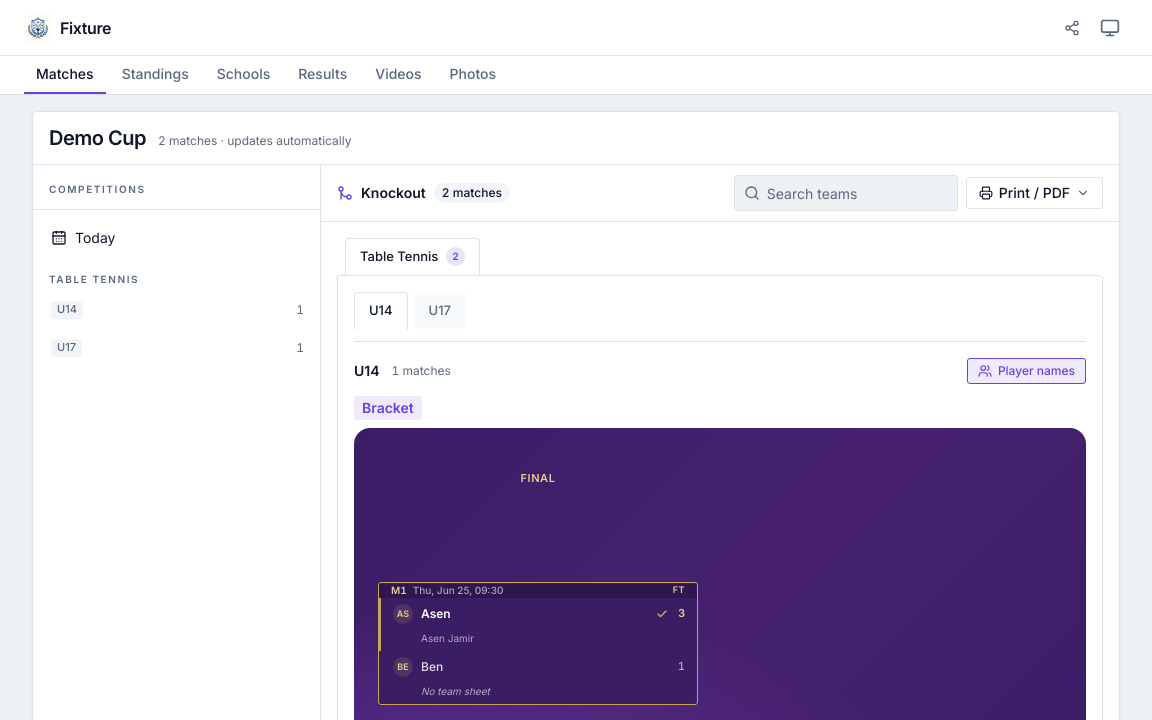
Test: the knockout draw inside the match centre › switches brackets from the category bookmarks (one bracket at a time)
Click the tab with test id "bracket-comp-pick-tt.u17".
click(440, 310)  # box top-left (414, 292), bottom-right (466, 329)
(page scrolled)
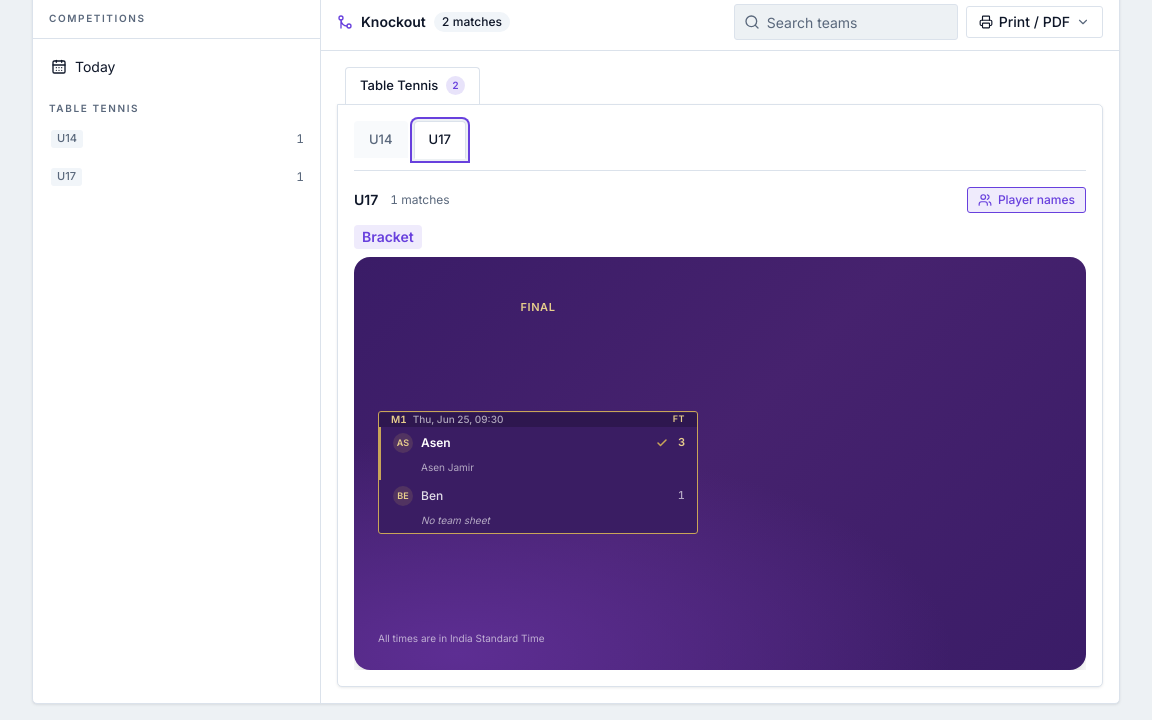
Check: the element with test id "bracket-tt.u17" is shown, box top-left (354, 187), bottom-right (1086, 670)
